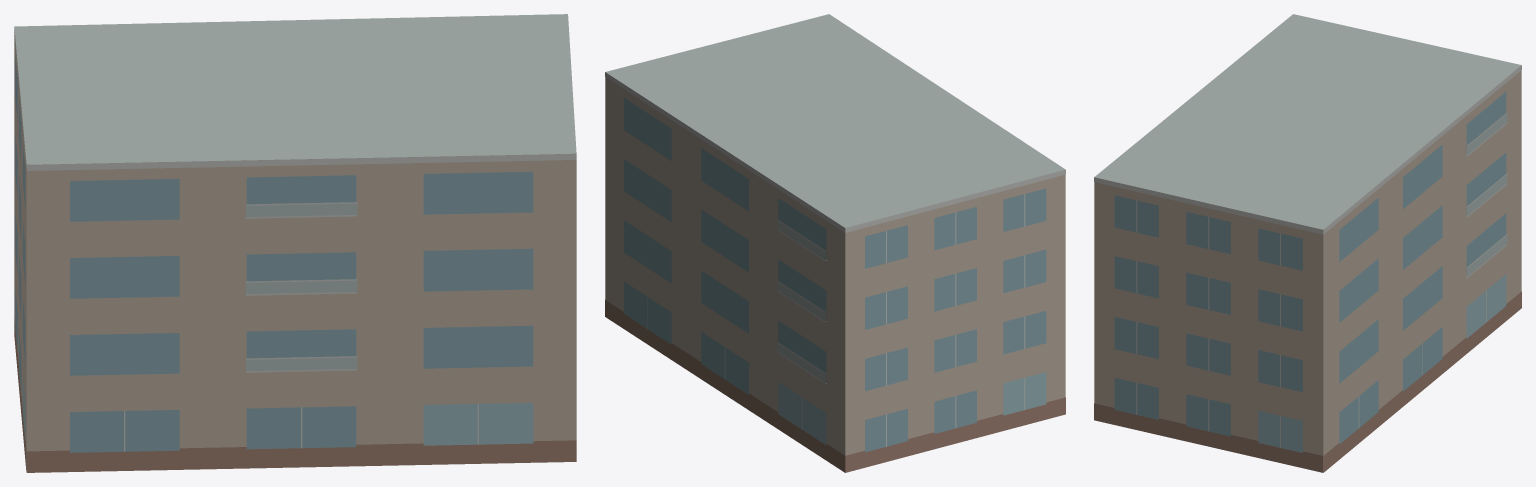
The model's file is survey-upis-32683139.glb.
3 renders of one model, left to right at view 1: azimuth 30°, elevation 25°; view 2: azimuth 150°, elevation 25°; view 3: azimuth 270°, elevation 25°, orthographic. The views are drawn at different scales.
Parts seen in each view (by area): view 1: survey-upis-32683139.tmp; view 2: survey-upis-32683139.tmp; view 3: survey-upis-32683139.tmp.
Part boxes in pixels (x1=…): survey-upis-32683139.tmp: x1=14, y1=14, x2=576, y2=472; survey-upis-32683139.tmp: x1=605, y1=14, x2=1065, y2=472; survey-upis-32683139.tmp: x1=1094, y1=14, x2=1521, y2=472.
Size of the model in its own units: 23.24 by 12.2 by 19.46.
